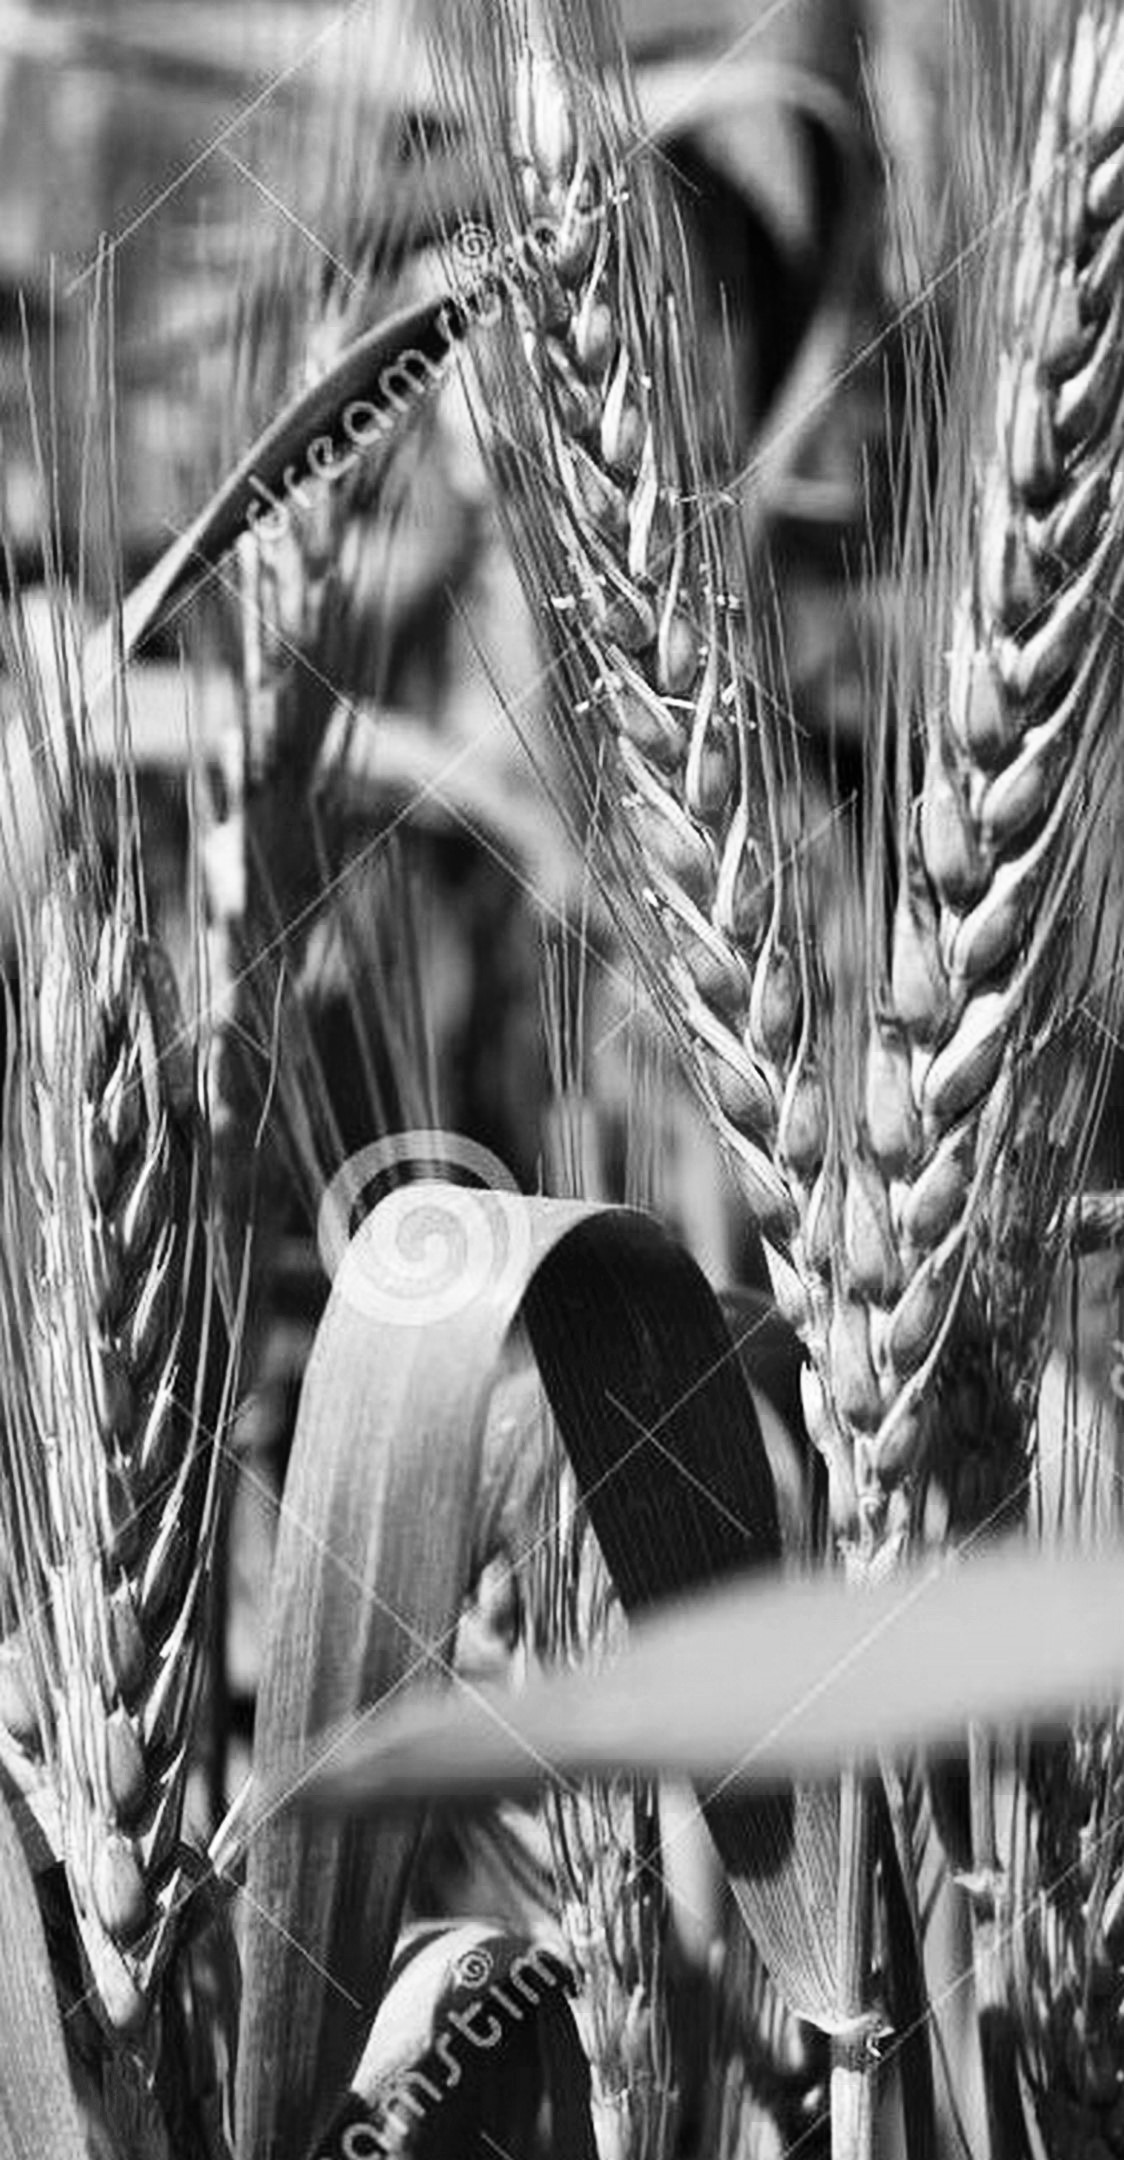Healthy Wheat: (458, 73, 838, 1217), (854, 59, 1124, 1503), (19, 863, 286, 1991)
